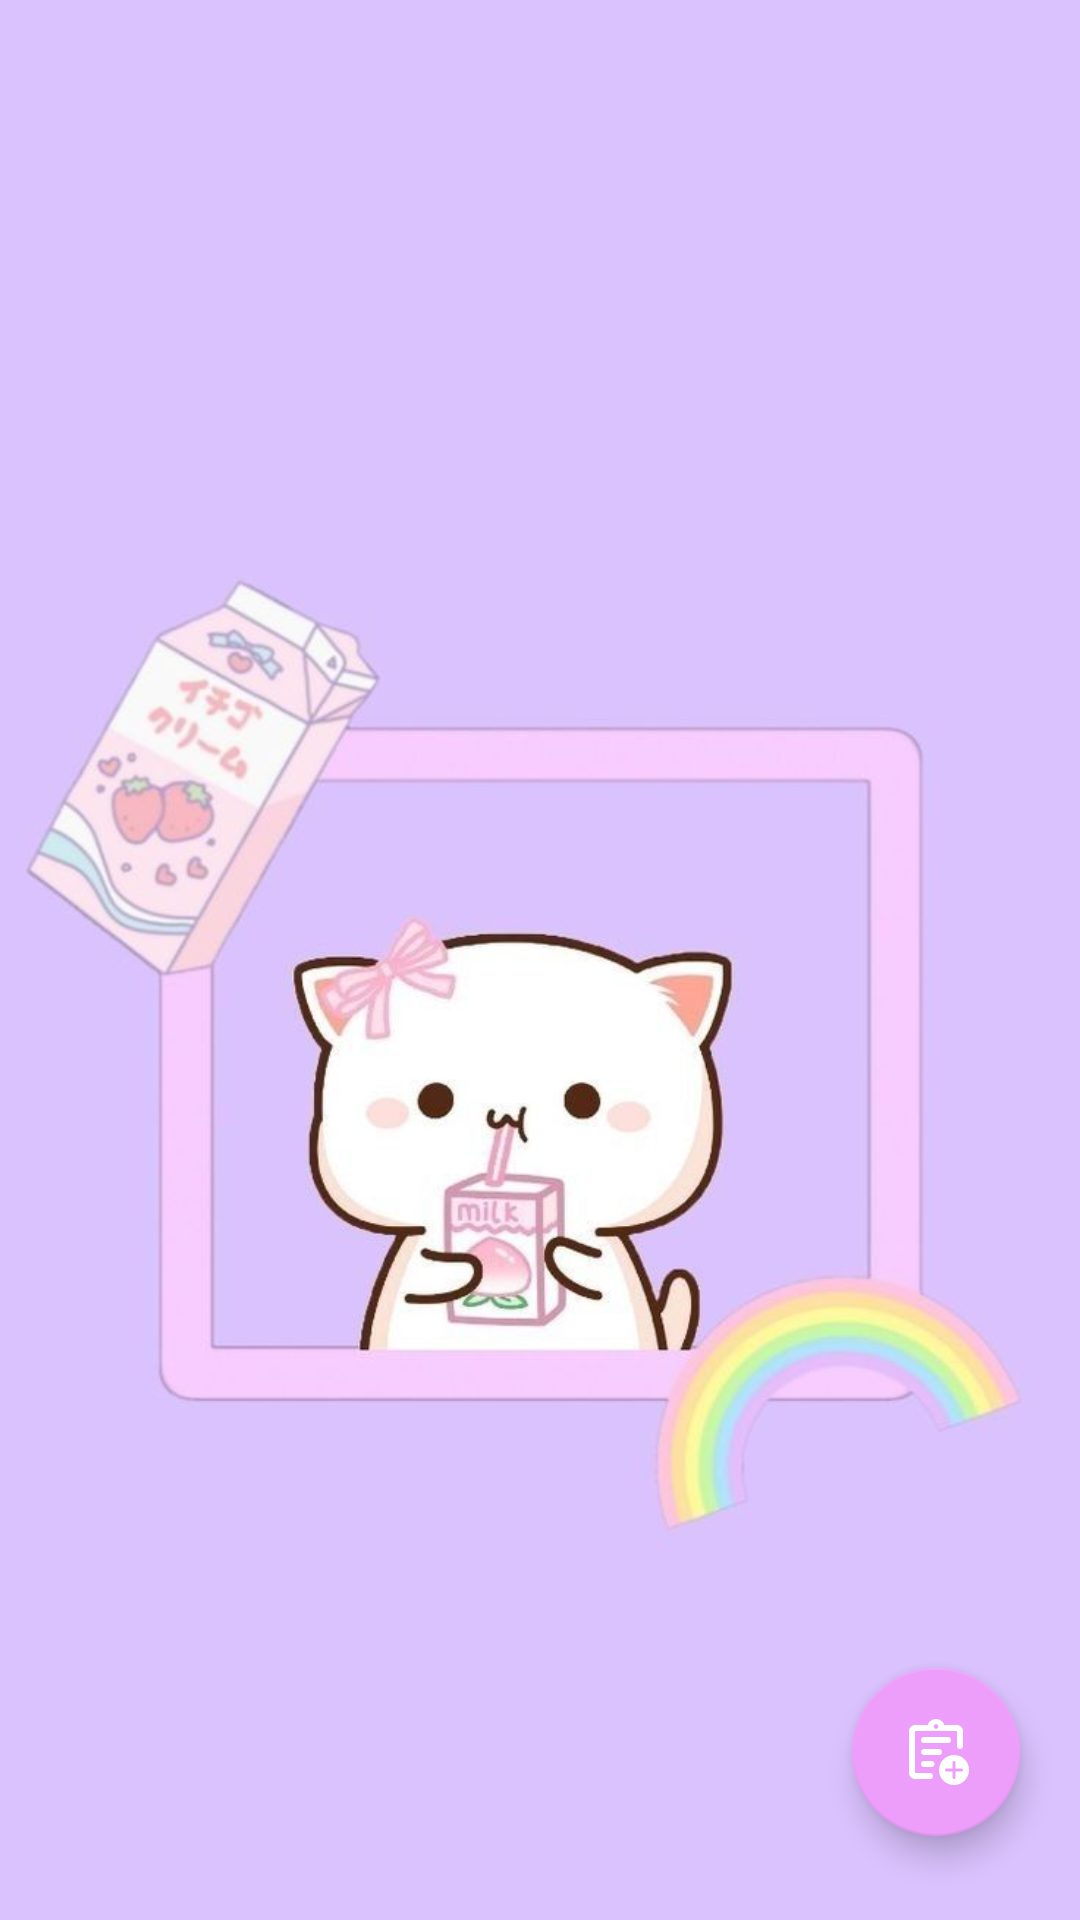

Locate icon controls on the screen. Image size 1080px×1920px, boxes as (x1, y1, x2, y2).
assignment add: (852, 1669, 1020, 1836)
